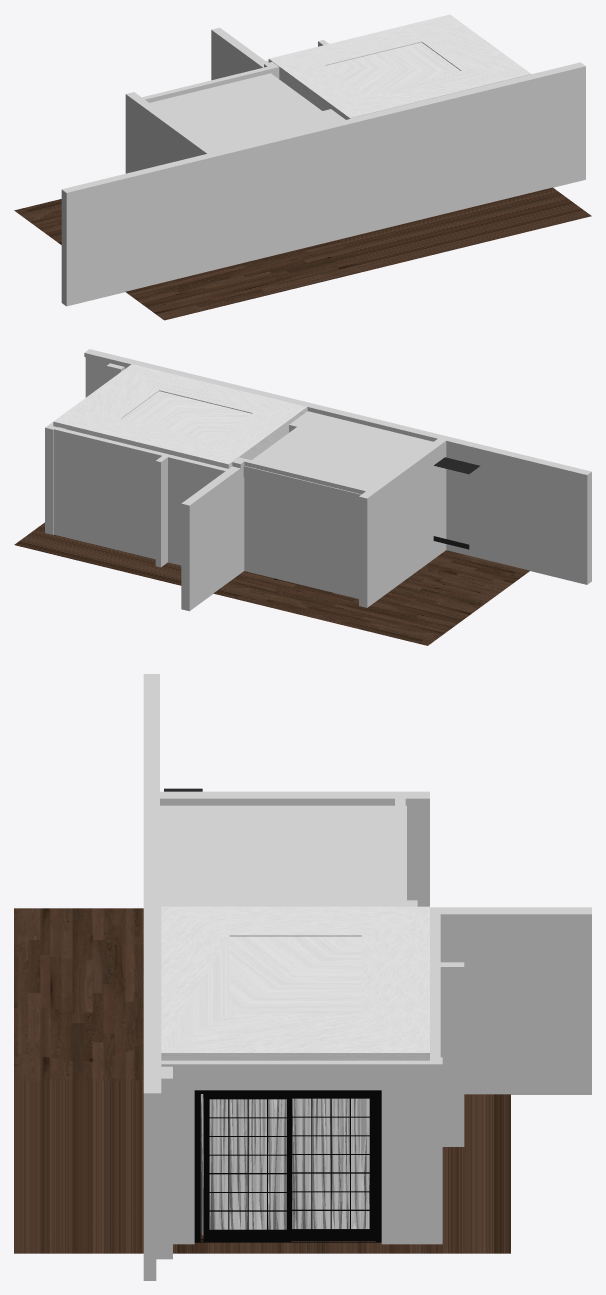
Rendered from bedroom.glb.
3 views of the same model, one above another, from view 1: azimuth 30°, elevation 25°; view 2: azimuth 150°, elevation 25°; view 3: azimuth 270°, elevation 25° (orthographic). The views are drawn at different scales.
Parts seen in each view (by area): view 1: Shell__Mat3d66_1313438_8_5613, Contents__Mat3d66_1313438_35_671, Shell__TRN_BN_XN; view 2: Shell__Mat3d66_1313438_8_5613, Contents__Mat3d66_1313438_35_671, Shell__TRN_BN_XN, Shell__Mat3d66_1313438_2_1839; view 3: Shell__Mat3d66_1313438_8_5613, Contents__Mat3d66_1313438_35_671, Shell__TRN_BN_XN, Contents__Generic, Contents__AM109_016_wood, Shell__Generic, Shell__AM109_016_wood.
Boxes of the visible parts, bbox=[...] form: Shell__Mat3d66_1313438_8_5613: bbox=[61, 27, 585, 306]; Contents__Mat3d66_1313438_35_671: bbox=[14, 187, 591, 320]; Shell__TRN_BN_XN: bbox=[268, 14, 530, 119]; Shell__Mat3d66_1313438_8_5613: bbox=[45, 349, 591, 611]; Contents__Mat3d66_1313438_35_671: bbox=[14, 522, 529, 645]; Shell__TRN_BN_XN: bbox=[53, 364, 307, 468]; Shell__Mat3d66_1313438_2_1839: bbox=[434, 457, 479, 474]; Shell__Mat3d66_1313438_8_5613: bbox=[143, 674, 591, 1280]; Contents__Mat3d66_1313438_35_671: bbox=[14, 908, 510, 1253]; Shell__TRN_BN_XN: bbox=[161, 906, 429, 1060]; Contents__Generic: bbox=[201, 1098, 369, 1235]; Contents__AM109_016_wood: bbox=[200, 1097, 375, 1242]; Shell__Generic: bbox=[201, 1094, 369, 1196]; Shell__AM109_016_wood: bbox=[194, 1090, 381, 1242].
Bounding box in the file's own units: 14.32 × 3 × 8.34.
68 materials, 37 textured.
